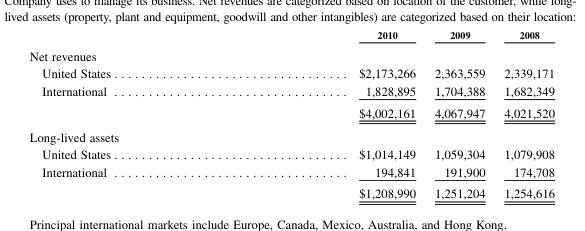table: (28, 28, 554, 200)
table column: (28, 28, 234, 200), (234, 28, 424, 200), (424, 28, 494, 200), (494, 28, 554, 200)
table column header: (28, 28, 554, 44)
table projected row header: (28, 124, 554, 145), (28, 44, 554, 64)
table row: (28, 101, 554, 124), (28, 124, 554, 145), (28, 44, 554, 64), (28, 162, 554, 182), (28, 82, 554, 101), (28, 64, 554, 82), (28, 182, 554, 200), (28, 145, 554, 162), (28, 28, 554, 44)
